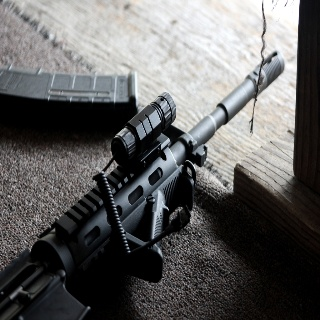rifle: (1, 48, 287, 320)
